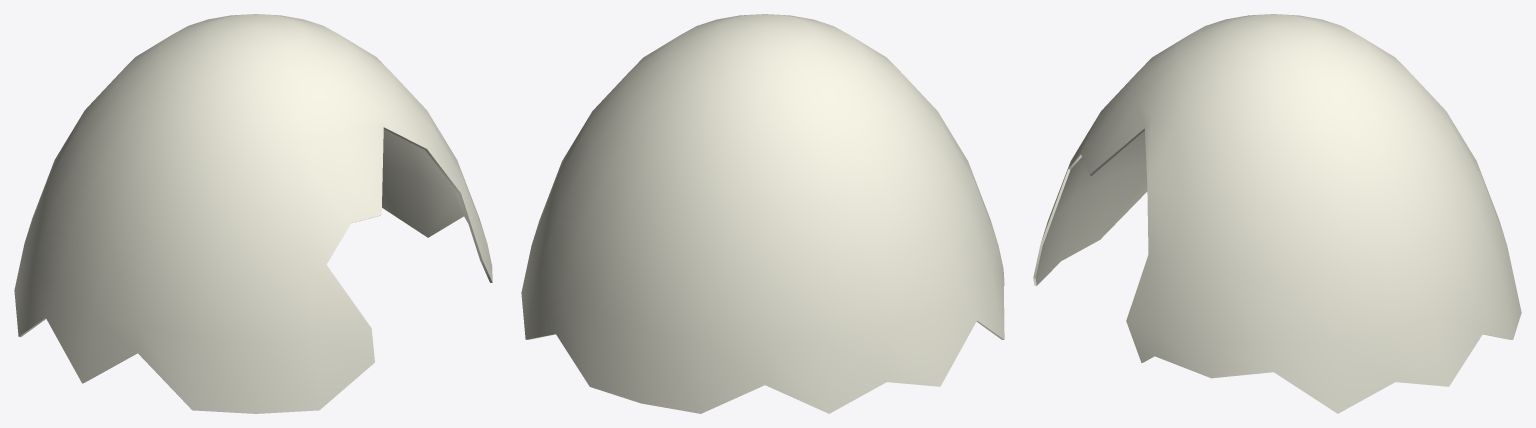
Rendered from Huevon_01.fbx.
3 renders of one model, left to right at view 1: azimuth 30°, elevation 25°; view 2: azimuth 150°, elevation 25°; view 3: azimuth 270°, elevation 25°, orthographic.
Parts seen in each view (by area): view 1: Huevon_01; view 2: Huevon_01; view 3: Huevon_01.
Boxes of the visible parts, <box> form: Huevon_01: <box>14,14,492,413</box>; Huevon_01: <box>521,14,1004,413</box>; Huevon_01: <box>1033,14,1521,413</box>.
Bounding box in the file's own units: 15.7 × 10.07 × 15.65.
